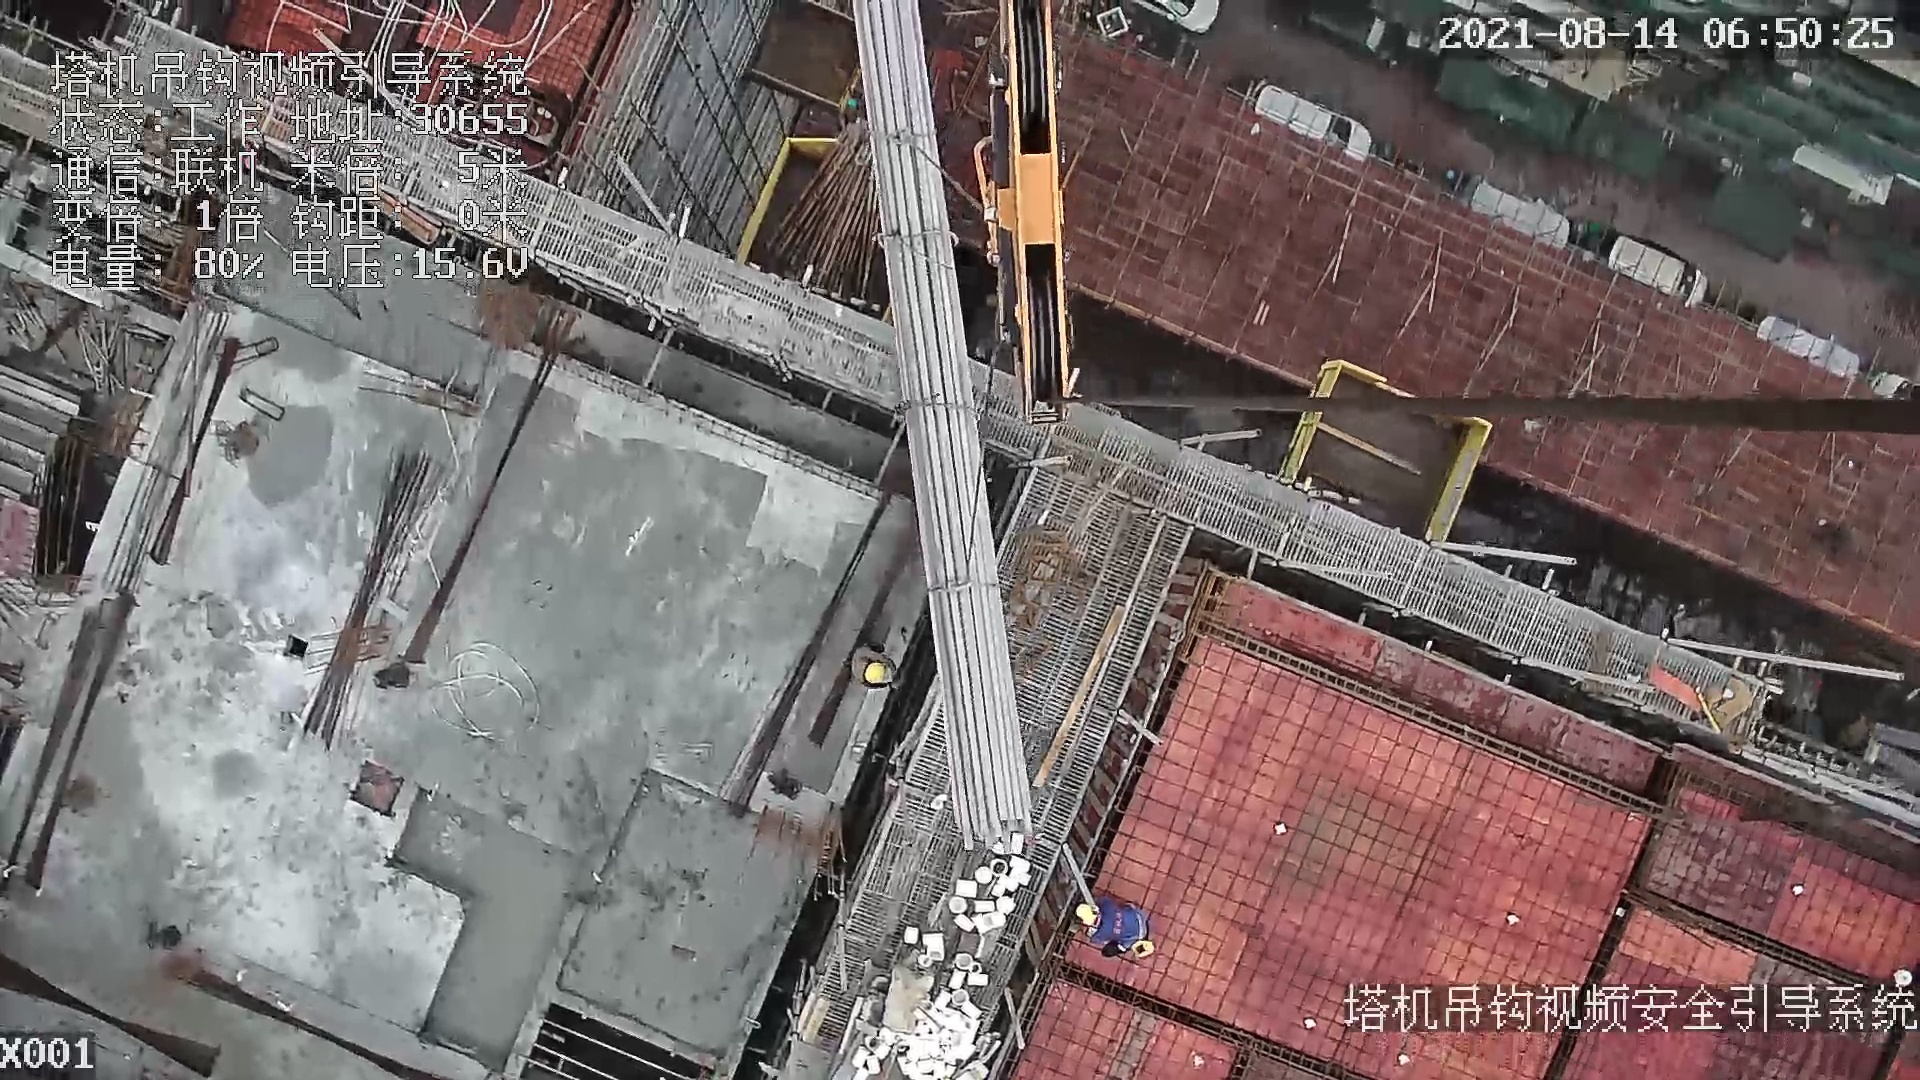helmet: (859, 656, 898, 688), (1076, 896, 1105, 932)
hook: (967, 1, 1078, 431)
person: (1069, 894, 1163, 967), (854, 650, 904, 694)
